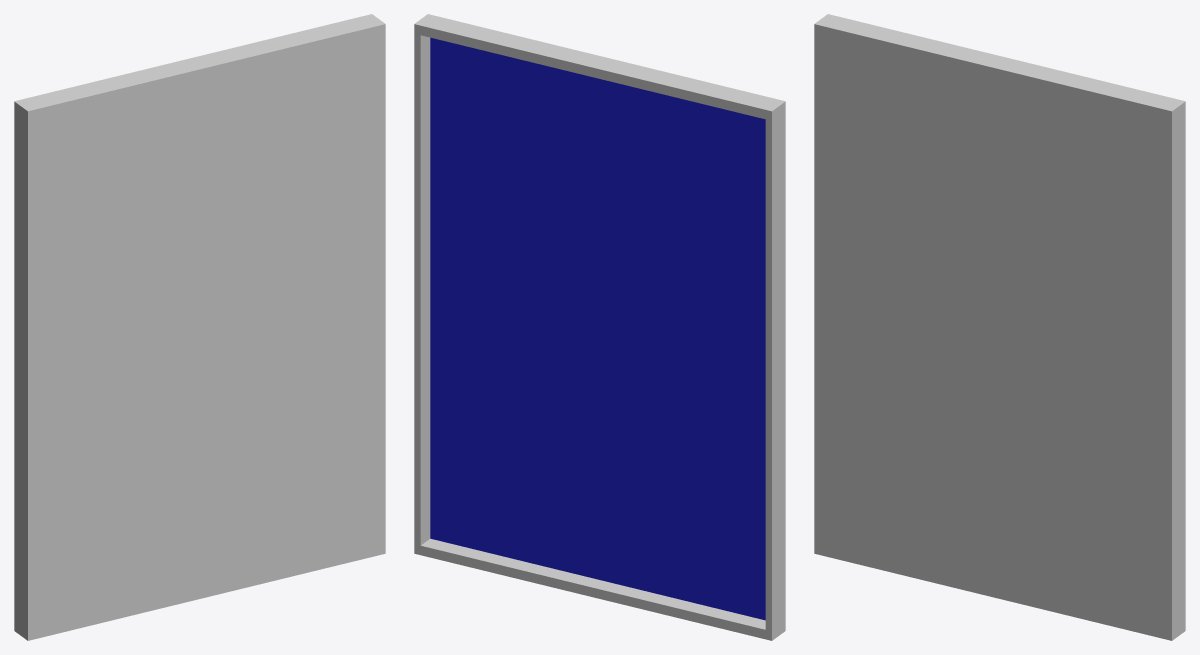
Rendered from board_A4_portrait.glb.
3 renders of one model, left to right at view 1: azimuth 30°, elevation 25°; view 2: azimuth 150°, elevation 25°; view 3: azimuth 330°, elevation 25°, orthographic.
Visible parts, largest first — view 1: Cube; view 2: Cube; view 3: Cube.
Part boxes in pixels (left/top/right/bottom): Cube: left=14, top=14, right=385, bottom=640; Cube: left=414, top=14, right=785, bottom=640; Cube: left=814, top=14, right=1185, bottom=640.
Bounding box in the file's own units: 2.1 × 2.97 × 0.1398.
